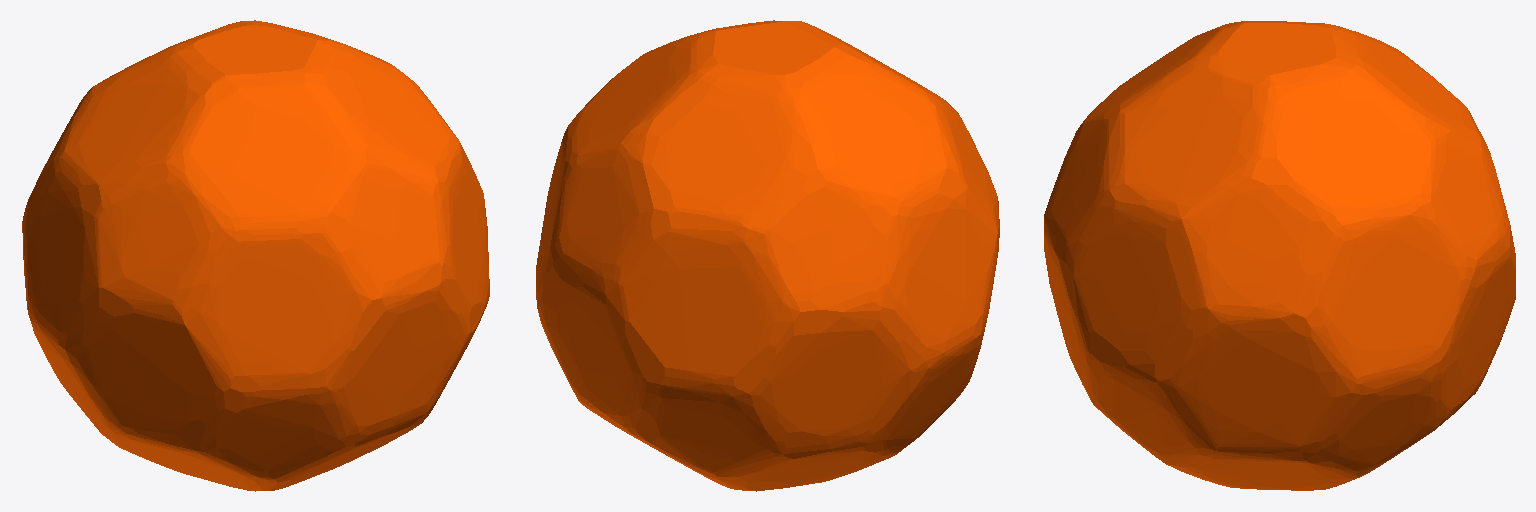
URDF robot description (Ball):
<?xml version="1.0" ?>
<robot name="Ball">
   <material name="obj_color">
      <color rgba="1.0 0.423529411765 0.0392156862745 1.0"/>
   </material>
   <link name="top">
      <inertial>
         <origin rpy="0.0008263142014935921 0.0008266090153011964 0.0008271300614782853" xyz="6.75550770841258e-05 4.451321019977919e-05 4.271478664795656e-06"/>
         <mass value="0.9006376363338371"/>
         <inertia ixx="0.0008266699039527037" ixy="1.684268999290934e-07" ixz="-2.414081879228714e-08" iyy="0.0008270185254673865" iyz="-1.863870191038093e-07" izz="0.000826364848852983"/>
      </inertial>
      <visual>
         <origin rpy="0 0 0" xyz="0 0 0"/>
         <geometry>
            <mesh filename="top_watertight_tiny.obj" scale="1 1 1"/>
         </geometry>
         <material name="obj_color"/>
      </visual>
      <collision>
         <origin rpy="0 0 0" xyz="0 0 0"/>
         <geometry>
            <mesh filename="top_watertight_tiny.obj" scale="1 1 1"/>
         </geometry>
      </collision>
   </link>
</robot>

--- Facts derived from the render (not from the file) ---
3 views of the same robot in one strip: view 1: azimuth 30°, elevation 25°; view 2: azimuth 150°, elevation 25°; view 3: azimuth 270°, elevation 25° (orthographic).
Model Ball with 1 links and 0 joints (none), rooted at top, posed every joint at zero.
Visible links, largest first — view 1: top; view 2: top; view 3: top.
Boxes of the visible links, bbox=[...] form: top: bbox=[22, 20, 489, 491]; top: bbox=[536, 20, 999, 491]; top: bbox=[1044, 21, 1515, 490].
Bounding box of the posed robot: 0.0965 × 0.0965 × 0.0944 m (x, y, z).
1 mesh visuals loaded from 1 distinct referenced files (1 OBJ).